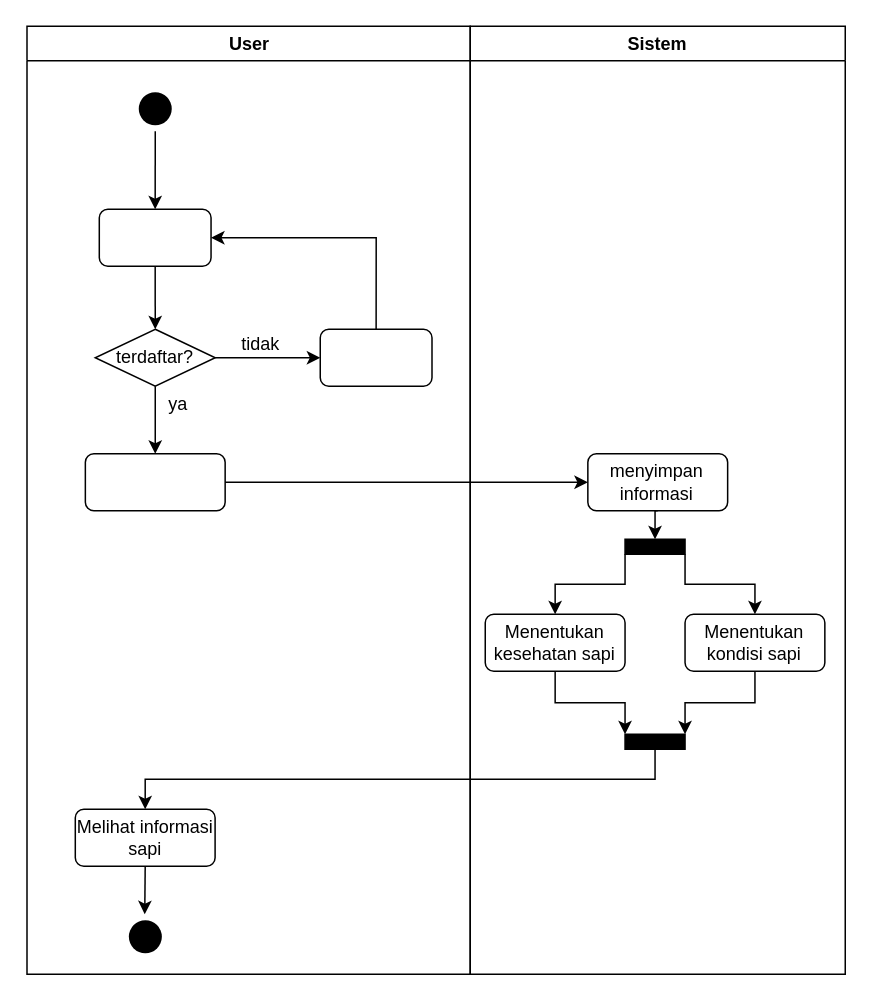
The diagram is 872 pixels wide and 1001 high, and some of its shapes have lost their labels. Each missing label, with the centre of its shape:
input informasi sapi: the point at 154,481
Login: the point at 154,237
Register: the point at 375,357
